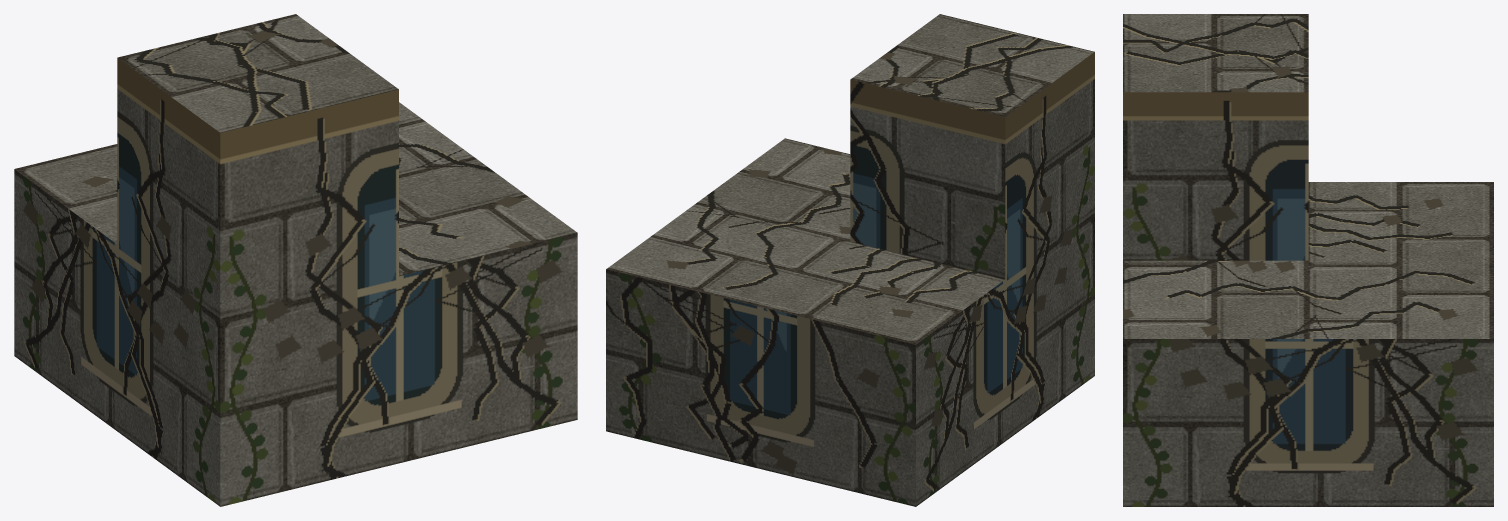
File: palace_z3.glb
3 views of the same model, side by side, from view 1: azimuth 30°, elevation 25°; view 2: azimuth 150°, elevation 25°; view 3: azimuth 270°, elevation 25° (orthographic). The views are drawn at different scales.
Visible parts, largest first — view 1: palace_z3; view 2: palace_z3; view 3: palace_z3.
Boxes of the visible parts, bbox=[...] form: palace_z3: bbox=[14, 14, 577, 506]; palace_z3: bbox=[606, 14, 1094, 506]; palace_z3: bbox=[1123, 14, 1493, 506].
Bounding box in the file's own units: 1 × 1 × 1.
Materials: 1 (1 with a texture image).
